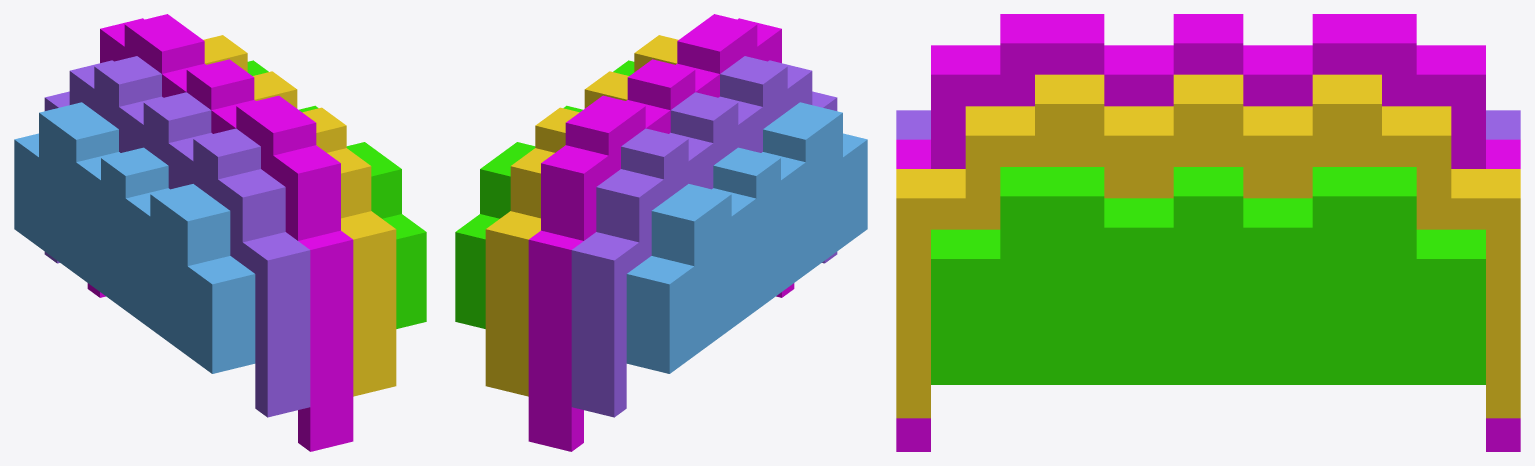
The picture shows the model from 3 angles, left to right: view 1: azimuth 30°, elevation 25°; view 2: azimuth 150°, elevation 25°; view 3: azimuth 270°, elevation 25°; orthographic projection. The views are drawn at different scales.
Parts seen in each view (by area): view 1: 48; view 2: 48; view 3: 48.
Part boxes in pixels (<box>): 48: <box>14,14,426,451</box>; 48: <box>455,14,867,451</box>; 48: <box>896,14,1520,451</box>.
Bounding box in the file's own units: 100 × 130 × 180.
Materials: 1 (1 with a texture image).
